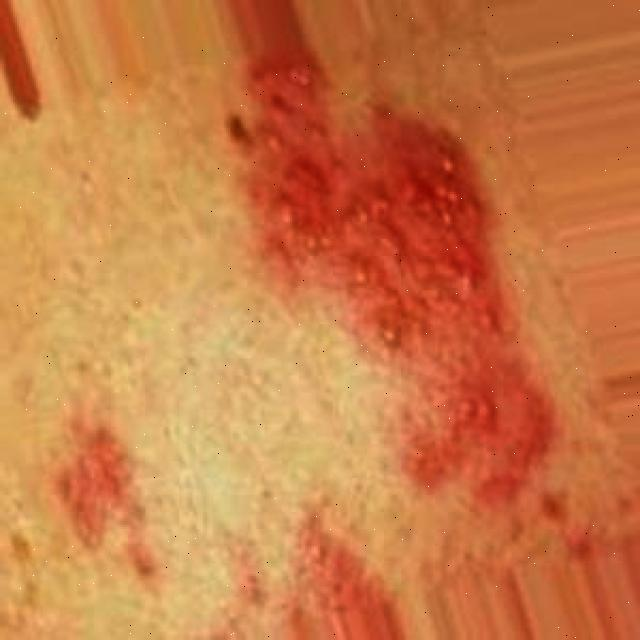Shingles: (219, 57, 556, 504), (211, 489, 377, 611), (40, 415, 155, 581)
